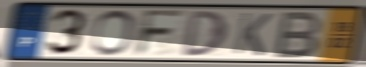3: (44, 7, 91, 57)
B: (271, 10, 325, 60)
D: (181, 10, 229, 58)
F: (132, 8, 189, 58)
K: (231, 11, 276, 58)
O: (89, 9, 136, 57)
